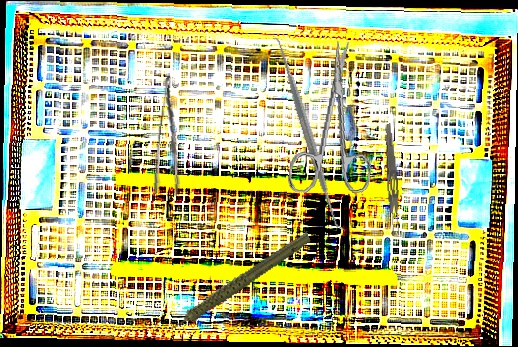Dressing Forceps: (151, 75, 192, 197), (380, 123, 403, 235)
Handpiece: (149, 230, 324, 334)
Iris Scissors: (286, 36, 387, 201)
Spatula Surgical: (267, 33, 350, 236)
